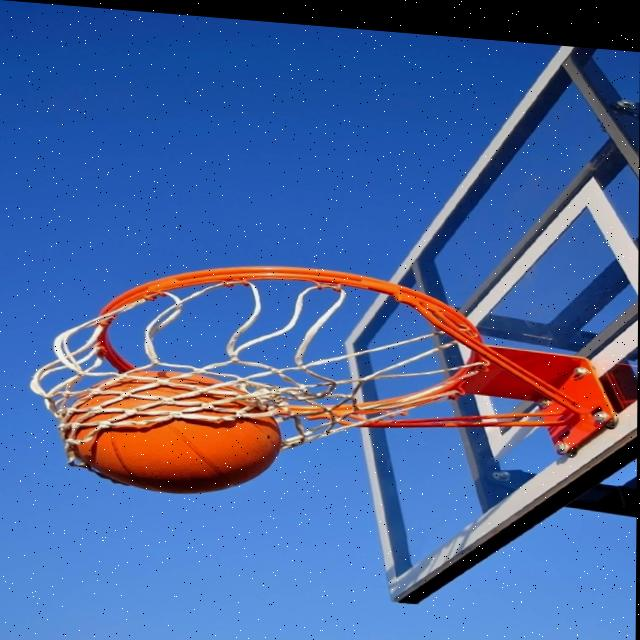basketball: (64, 363, 284, 503)
hoop: (28, 244, 493, 525), (92, 250, 491, 413)
